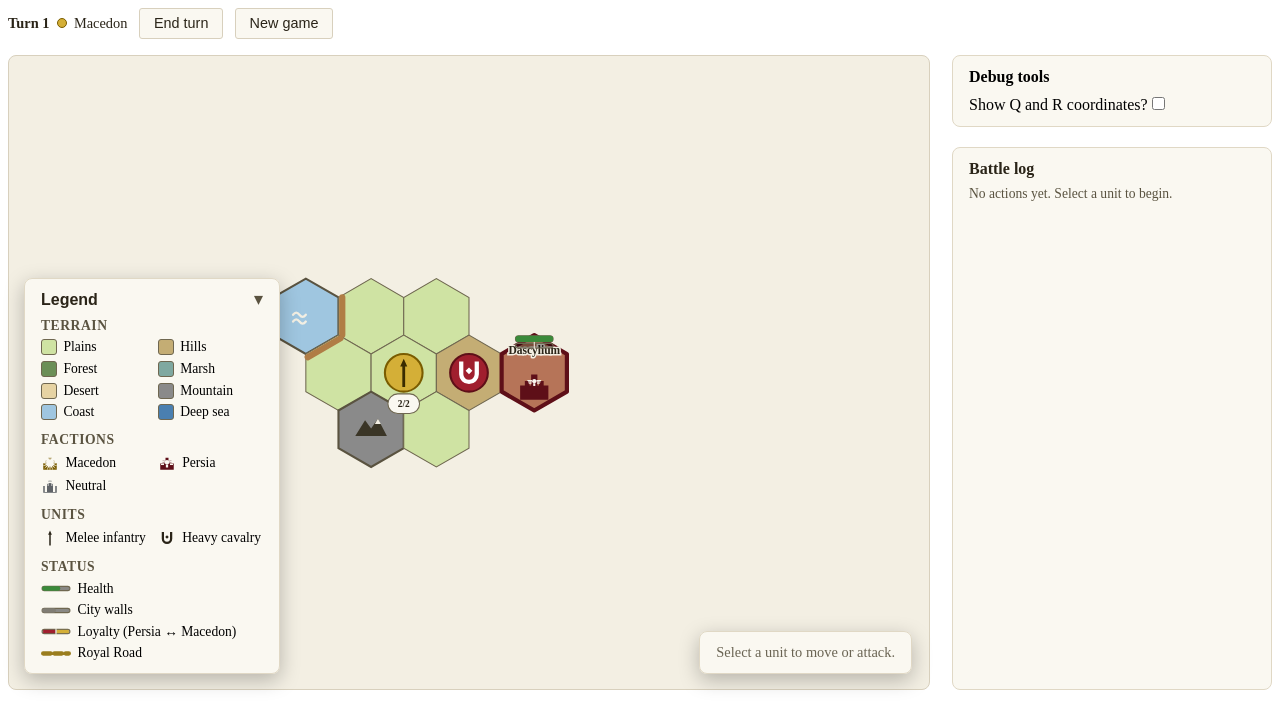
PlayBoard intent flow against mocked Server Actions › asks to confirm before ending the turn with a unit that still has moves
Step 1. Click the button "End turn" → (181, 23), box left=139, top=8, right=223, bottom=39
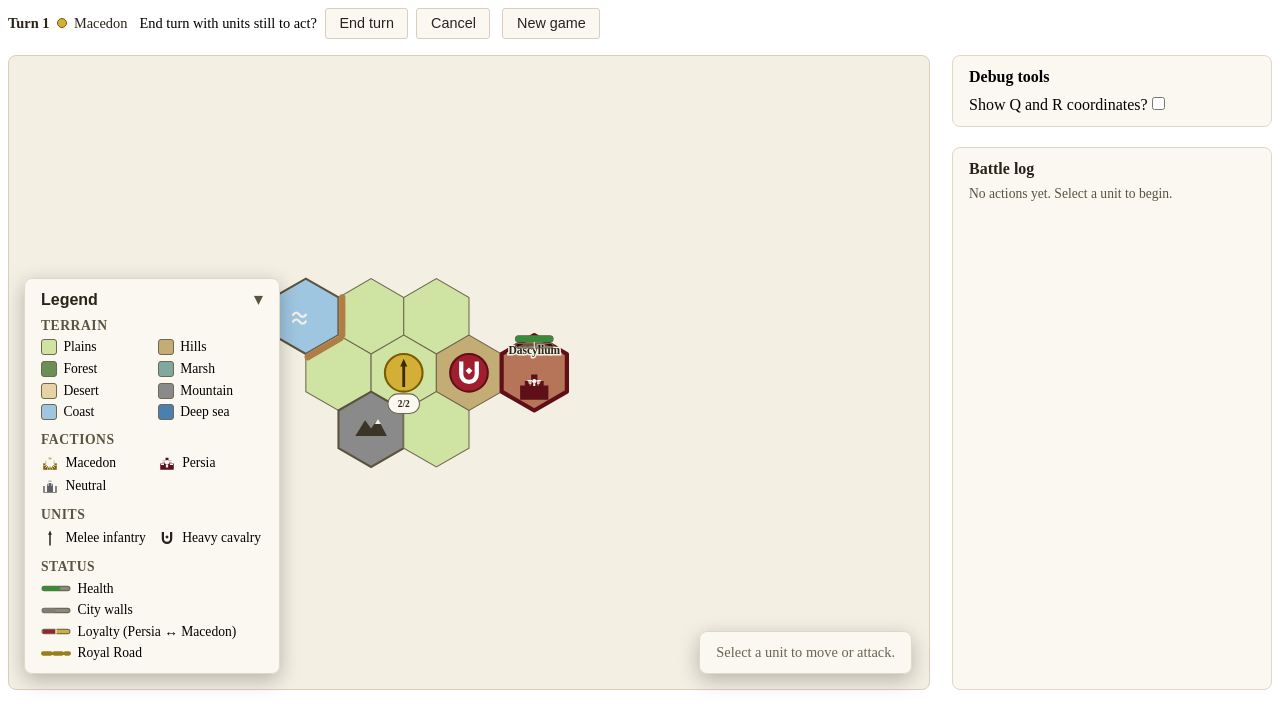
Now the text "End turn with units still to act? End turn Cancel" is shown, box left=139, top=8, right=490, bottom=39
